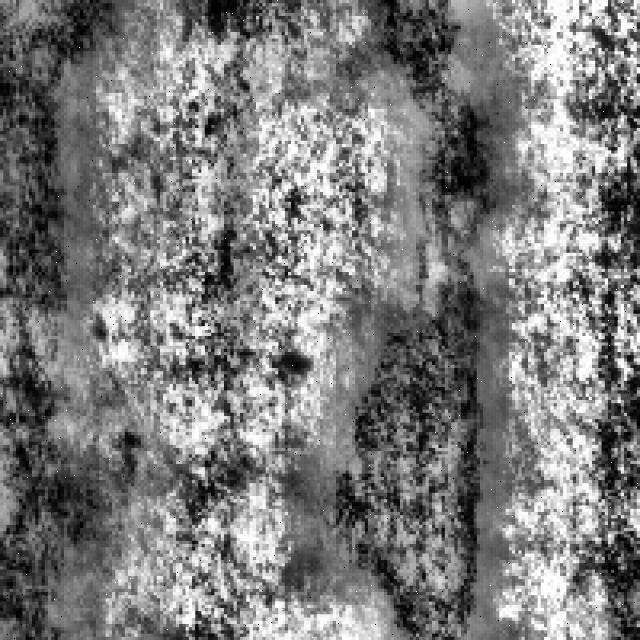Scratches: (3, 0, 128, 634), (314, 278, 506, 634), (362, 0, 515, 240)
